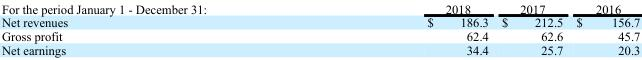table: (0, 1, 639, 56)
table column: (0, 1, 316, 56), (316, 1, 494, 56), (494, 1, 568, 56), (568, 1, 639, 56)
table column header: (0, 1, 639, 15)
table row: (0, 1, 639, 15), (0, 15, 639, 29), (0, 42, 639, 56), (0, 29, 639, 42)
